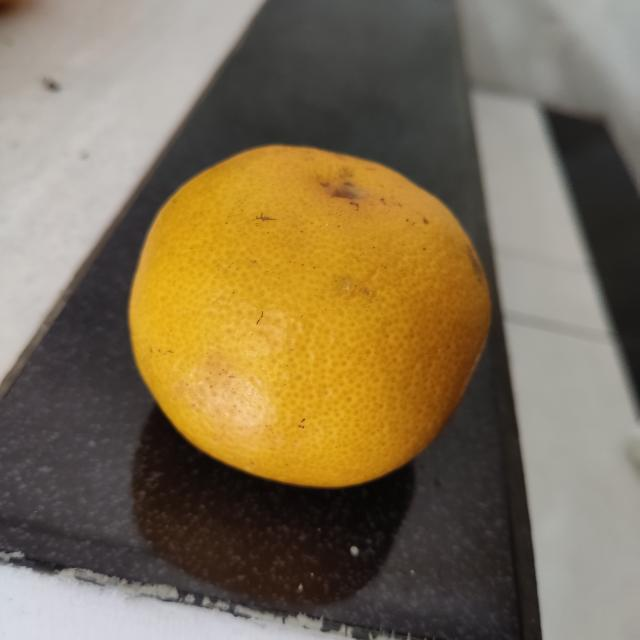orange: (127, 140, 492, 489)
